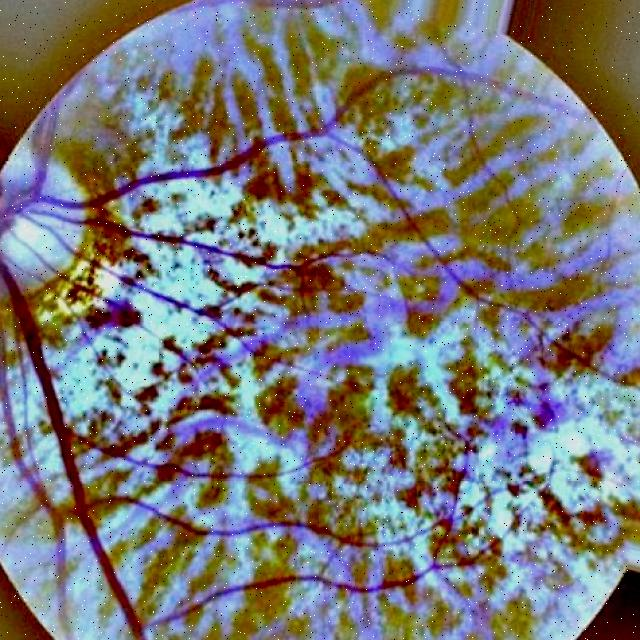Nerves: (0, 245, 335, 621), (39, 63, 552, 243)
Optic Disk: (0, 127, 118, 322)
